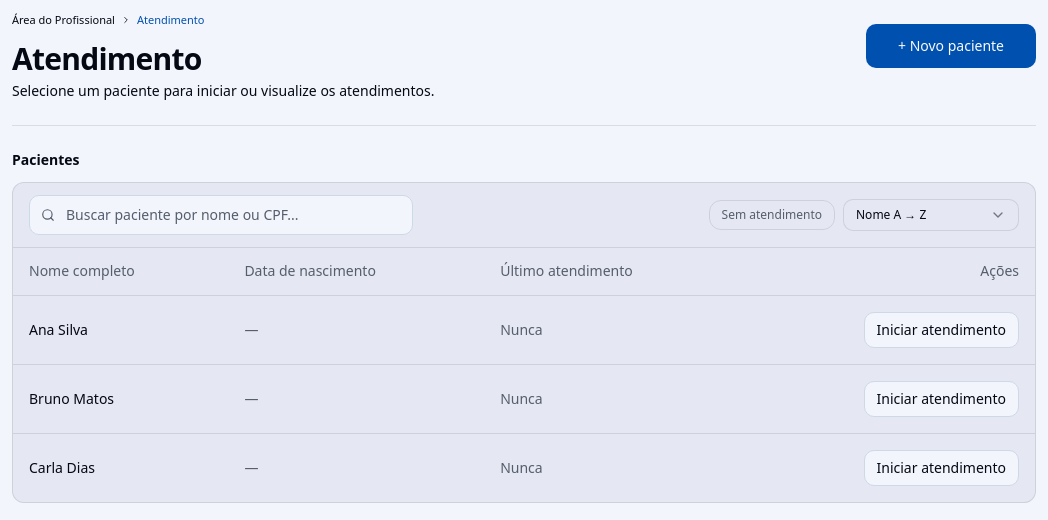
Test case: ConsultationPageClient — busca de pacientes › exibe mensagem quando busca não retorna resultados
The width and height of the screenshot is (1048, 520).
Type "zzzninguem" into the search field with placeholder "Buscar paciente por nome ou CPF..." at (221, 214), box [29,194,413,234]
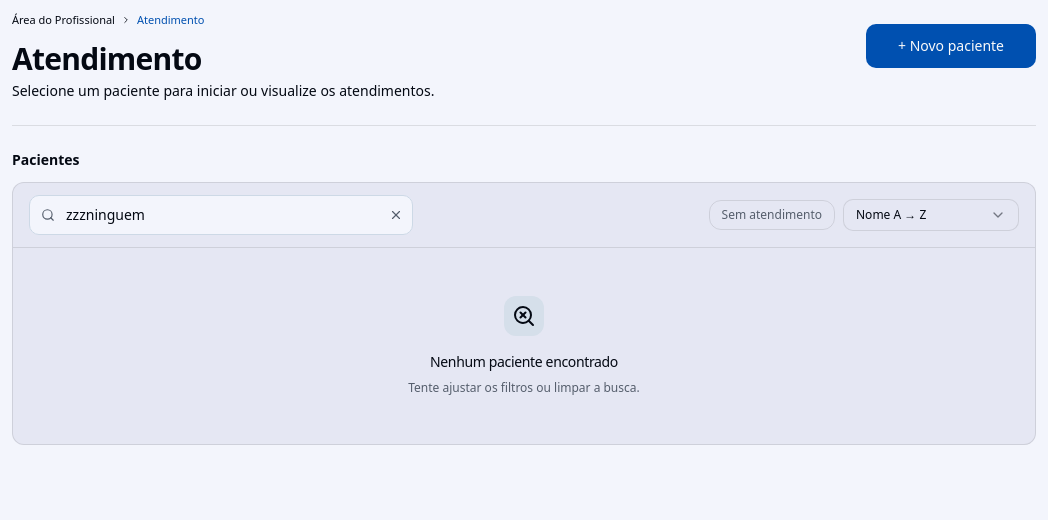
Result: the text "Nenhum paciente encontrado" is shown at [430,352,618,372]
